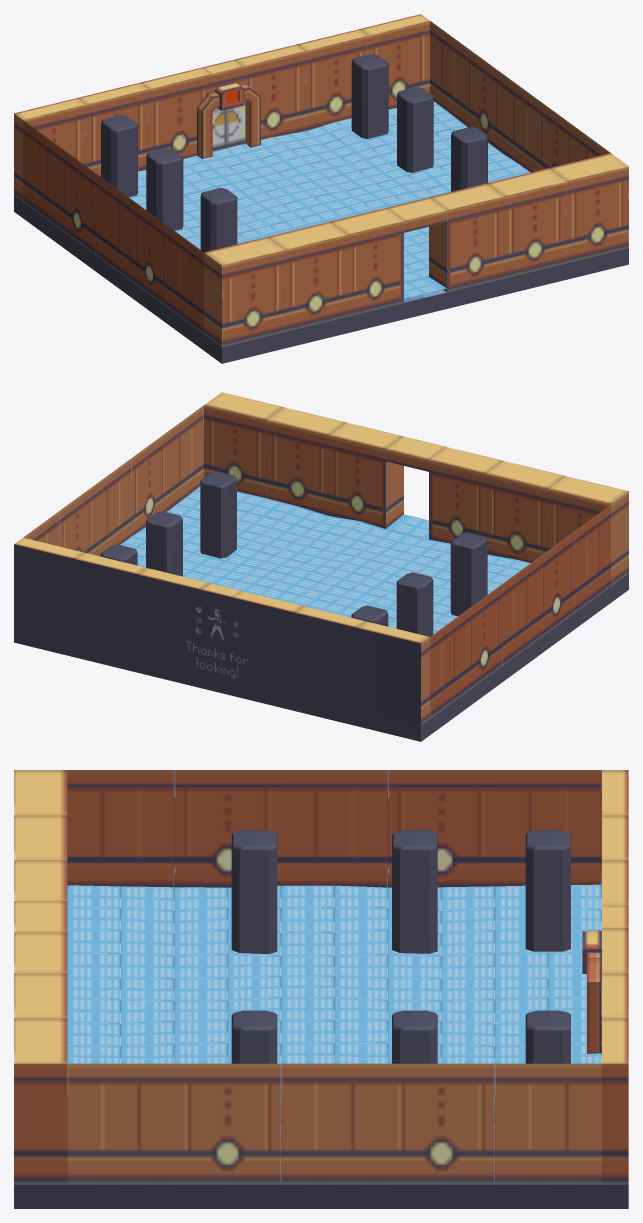
Rendered from arena.fbx.
The picture shows the model from 3 angles, top to bottom: view 1: azimuth 30°, elevation 25°; view 2: azimuth 150°, elevation 25°; view 3: azimuth 270°, elevation 25°; orthographic projection. The views are drawn at different scales.
Visible parts, largest first — view 1: wall_front, wall_back, water, ice_pillar_outline, wall_left, wall_right, floor_below, door; view 2: wall_back, wall_front, water, wall_left, ice_pillar_outline, wall_right, floor_below, misc; view 3: water, wall_right, wall_left, ice_pillar_outline, wall_front, floor_below, wall_back, door.
Boxes of the visible parts, x1,y1,x2,y2 form: wall_front: (204, 153, 628, 347); wall_back: (14, 14, 429, 201); water: (129, 101, 530, 298); ice_pillar_outline: (101, 54, 487, 252); wall_left: (23, 120, 203, 333); wall_right: (430, 21, 610, 172); floor_below: (14, 195, 628, 363); door: (197, 82, 260, 158); wall_back: (14, 537, 429, 725); wall_front: (204, 392, 628, 585); water: (120, 486, 530, 634); wall_left: (430, 505, 610, 718); ice_pillar_outline: (100, 471, 487, 636); wall_right: (23, 405, 203, 556); floor_below: (14, 573, 628, 741); misc: (186, 607, 247, 678); water: (67, 884, 601, 1063); wall_right: (67, 1063, 601, 1184); wall_left: (67, 770, 601, 887); ice_pillar_outline: (231, 830, 570, 1063); wall_front: (14, 770, 67, 1184); floor_below: (14, 1184, 628, 1208); wall_back: (602, 770, 628, 1184); door: (582, 930, 601, 1053).
Bounding box in the file's own units: 13 × 3 × 11.51.
